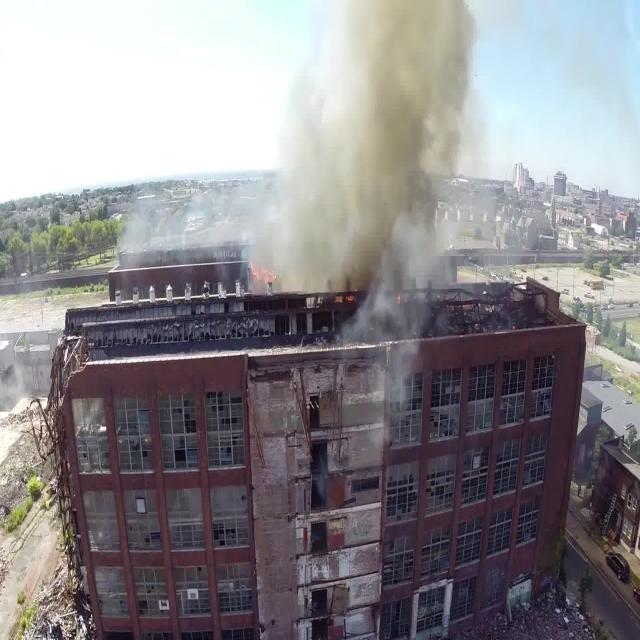smoke: (294, 5, 445, 293)
